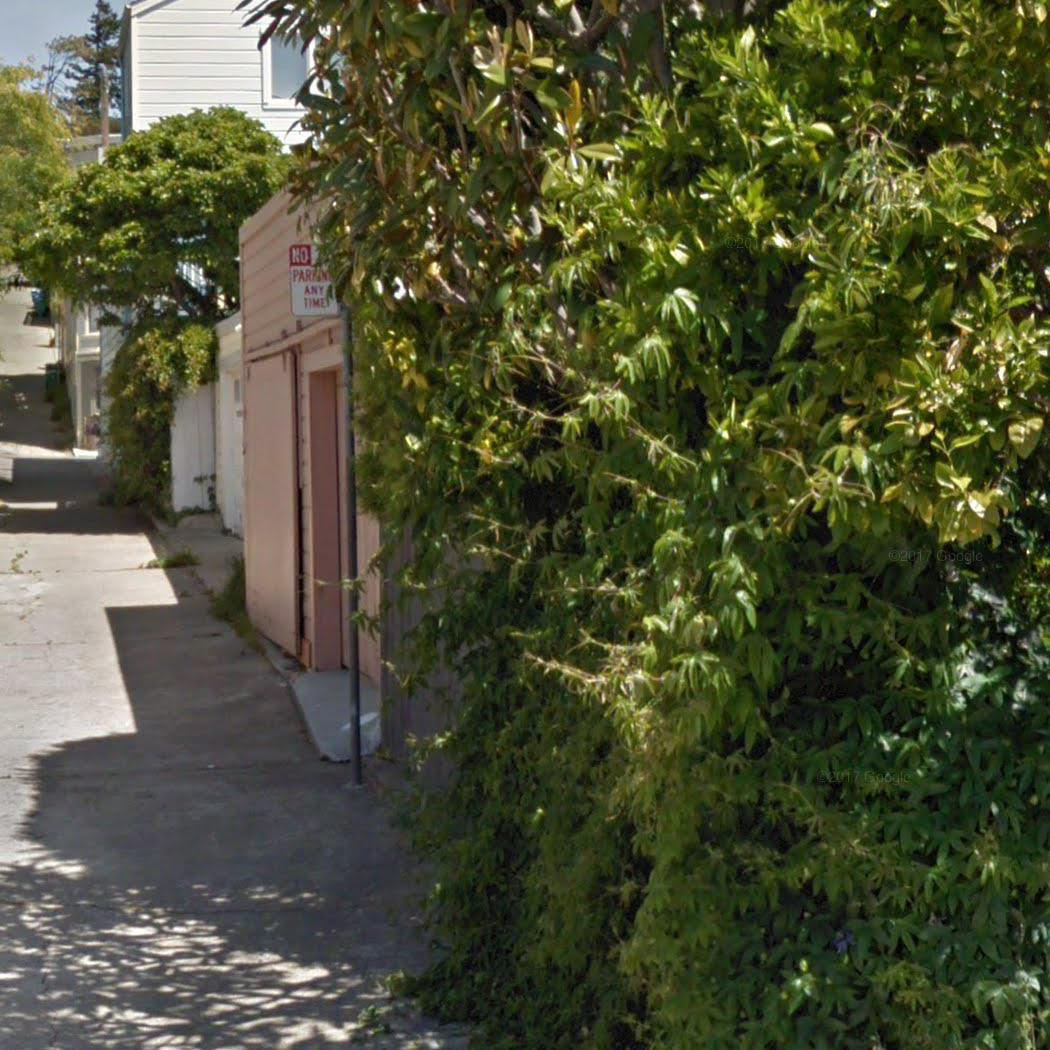No Parking Anytime: (286, 240, 348, 321)
